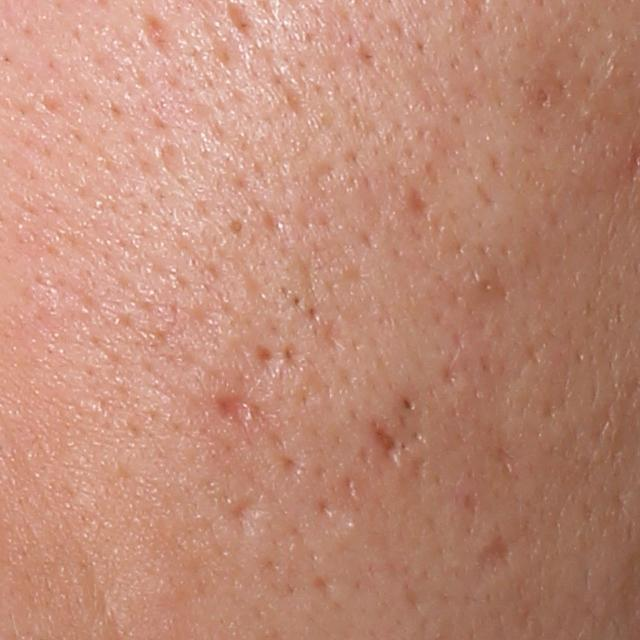atrophic_scar: (474, 525, 519, 575), (363, 417, 409, 465), (208, 391, 260, 433), (139, 14, 175, 64), (222, 489, 260, 535), (437, 353, 466, 398), (276, 446, 313, 481), (404, 184, 433, 222), (312, 572, 343, 602), (319, 317, 341, 357), (252, 342, 278, 367)
comedo: (224, 211, 254, 240), (526, 83, 556, 111), (399, 393, 415, 411), (290, 293, 304, 311)
